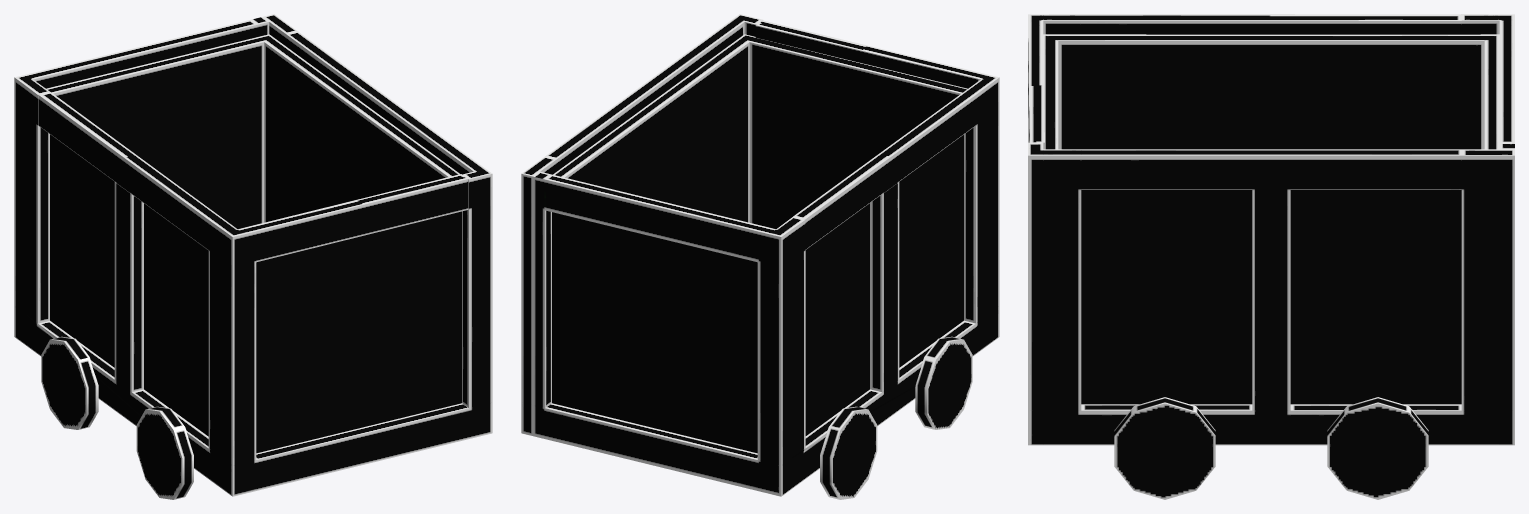
File: Dolly.FBX
The picture shows the model from 3 angles, left to right: view 1: azimuth 30°, elevation 25°; view 2: azimuth 150°, elevation 25°; view 3: azimuth 270°, elevation 25°; orthographic projection. The views are drawn at different scales.
Visible parts, largest first — view 1: Cylinder002; view 2: Cylinder002; view 3: Cylinder002.
Boxes of the visible parts, <box> form: Cylinder002: <box>14,14,492,499</box>; Cylinder002: <box>521,14,999,499</box>; Cylinder002: <box>1028,14,1514,499</box>.
Size of the model in its own units: 48 by 49 by 64.
